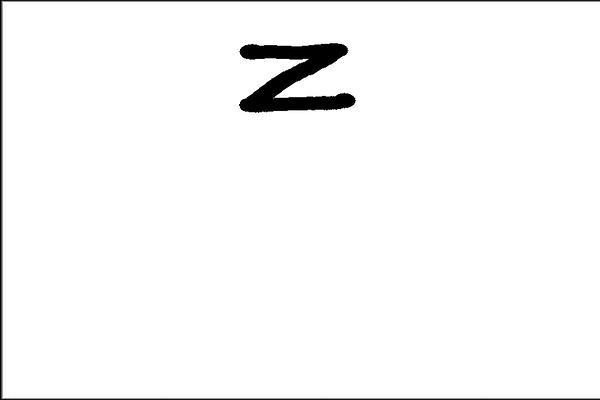Z: (231, 33, 364, 120)
